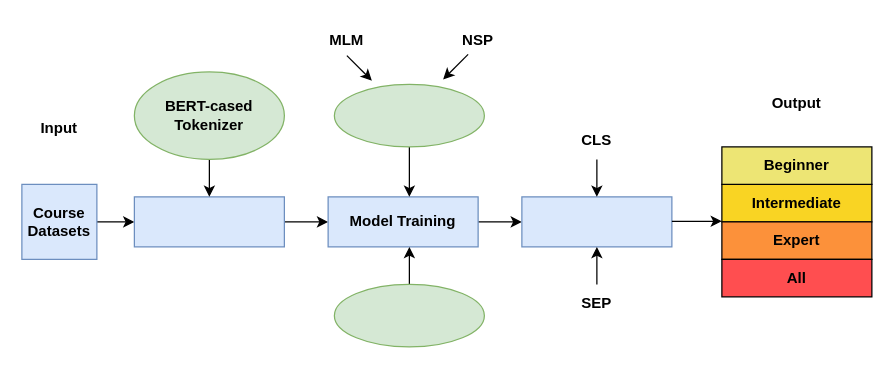
Image size: 894x369. Some labels were removed from this diagram. Here are the shapes that lost their labels. From the top down, the centre of each, then its label:
At [408,115]: "Pre Training".
At [208,221]: "Tokens".
At [596,221]: "Classifier Layer".
At [408,315]: "Fine Tuning".
